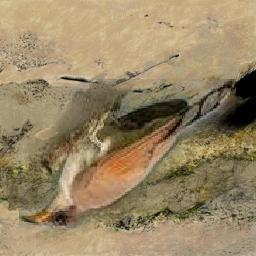Cuckoo: (20, 79, 237, 231)
